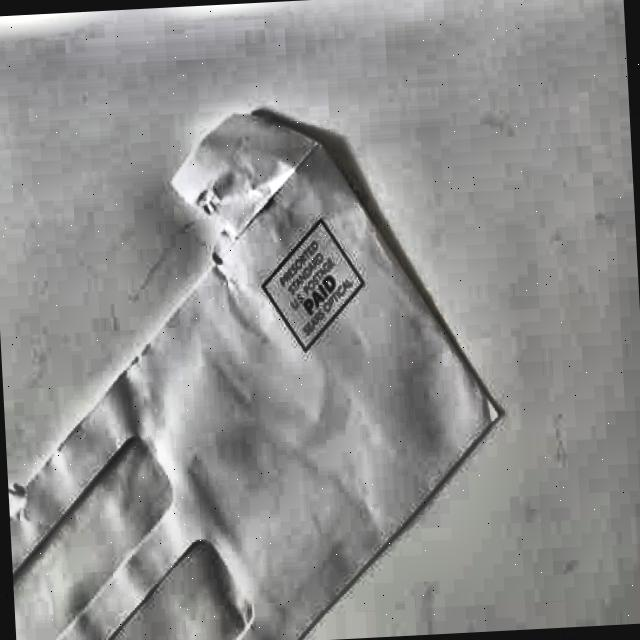paper: (0, 95, 528, 640)
